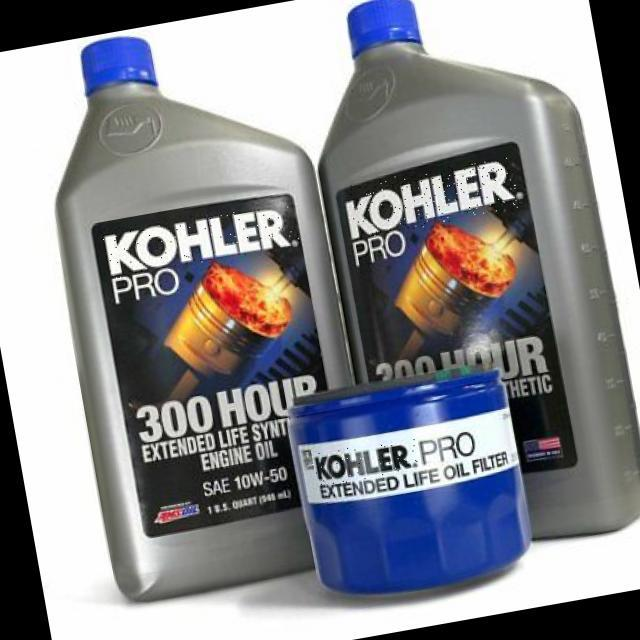Kohler: (102, 201, 301, 279), (343, 156, 520, 240), (310, 436, 420, 488)
